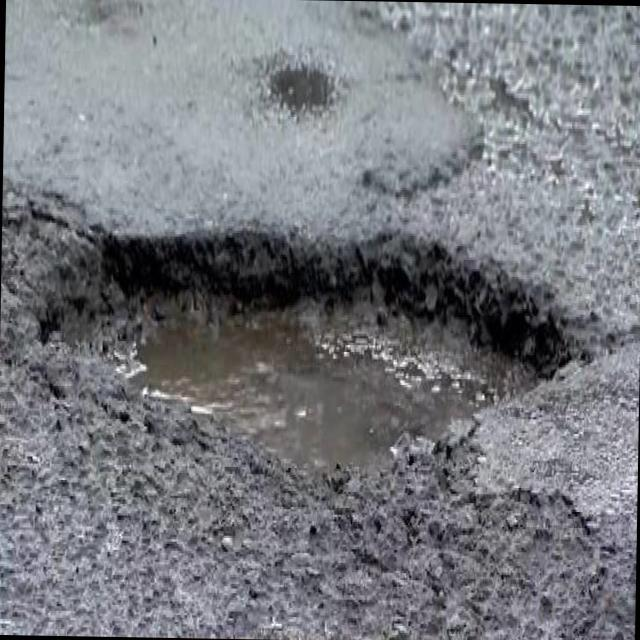Pothole: (18, 160, 623, 558)
